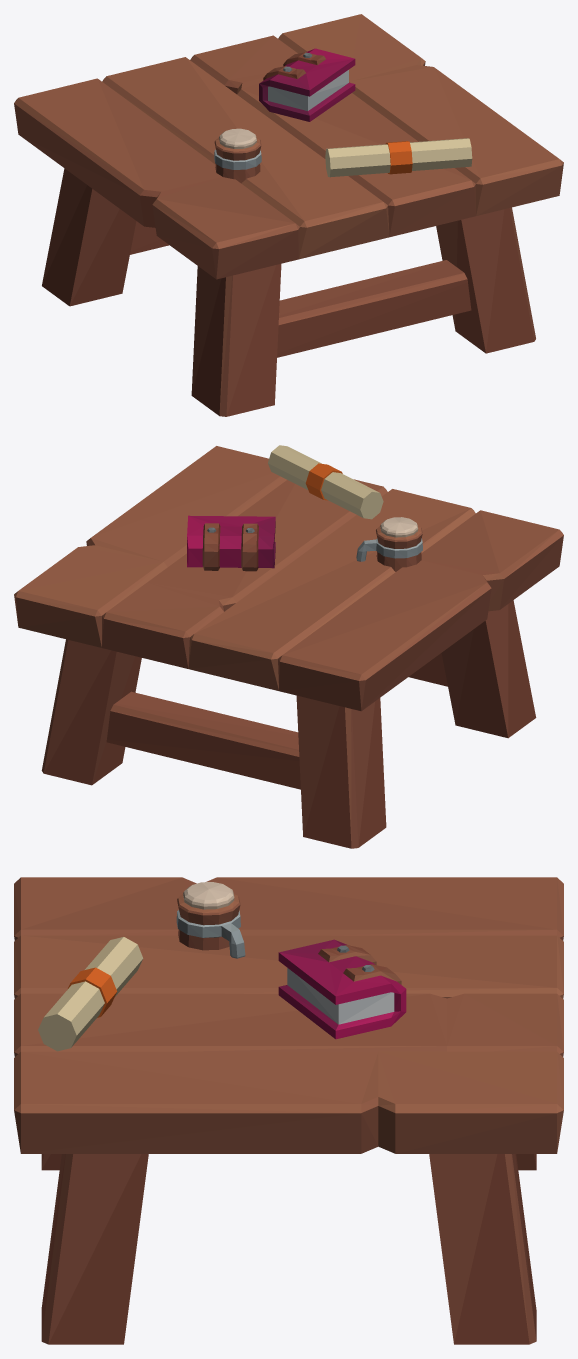
The model's file is table__a.glb.
3 views of the same model, one above another, from view 1: azimuth 30°, elevation 25°; view 2: azimuth 150°, elevation 25°; view 3: azimuth 270°, elevation 25° (orthographic). The views are drawn at different scales.
Visible parts, largest first — view 1: table_medium, spellbook_closed, scroll, mug_full, scroll_tie; view 2: table_medium, spellbook_closed, scroll, mug_full, scroll_tie; view 3: table_medium, spellbook_closed, scroll, mug_full, scroll_tie.
Part boxes in pixels (x1,y1,x2,y2): table_medium: [14, 14, 563, 416]; spellbook_closed: [259, 48, 355, 121]; scroll: [325, 138, 472, 177]; mug_full: [214, 128, 261, 183]; scroll_tie: [385, 141, 412, 174]; table_medium: [14, 446, 563, 848]; spellbook_closed: [187, 515, 275, 571]; scroll: [268, 445, 383, 519]; mug_full: [356, 517, 422, 571]; scroll_tie: [305, 463, 342, 500]; table_medium: [14, 877, 563, 1344]; spellbook_closed: [278, 939, 406, 1039]; scroll: [38, 937, 143, 1051]; mug_full: [176, 882, 245, 958]; scroll_tie: [67, 967, 117, 1017].
Size of the model in its own units: 1.09 by 0.6668 by 1.09.
